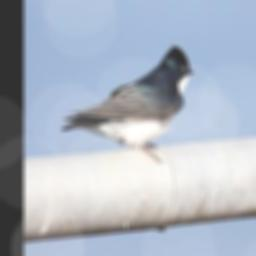Swallow: (60, 45, 193, 164)
